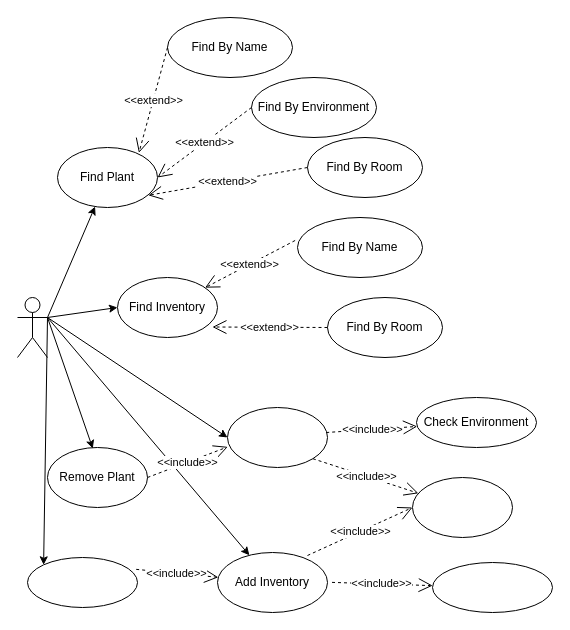
Image size: 570x630. Some labels were removed from this diagram. Here are the shapes that lost their labels. From the top down, the box of each, then its label:
(16, 296, 48, 358): Actor
(226, 406, 328, 468): Add Plant
(412, 476, 512, 538): Add Room
(26, 556, 138, 608): Remove Inventory
(432, 562, 552, 612): Check Capacity
